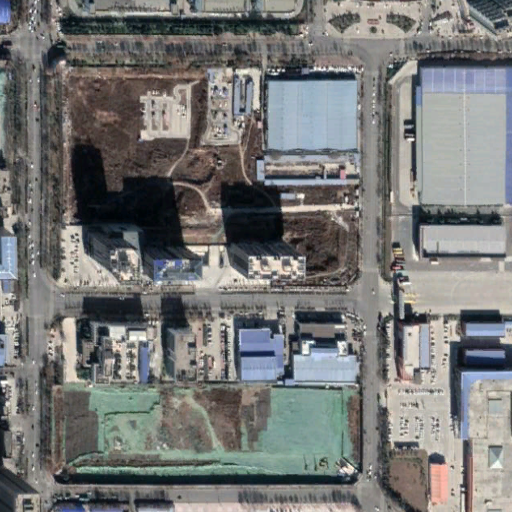cw: (52, 384, 361, 481)
